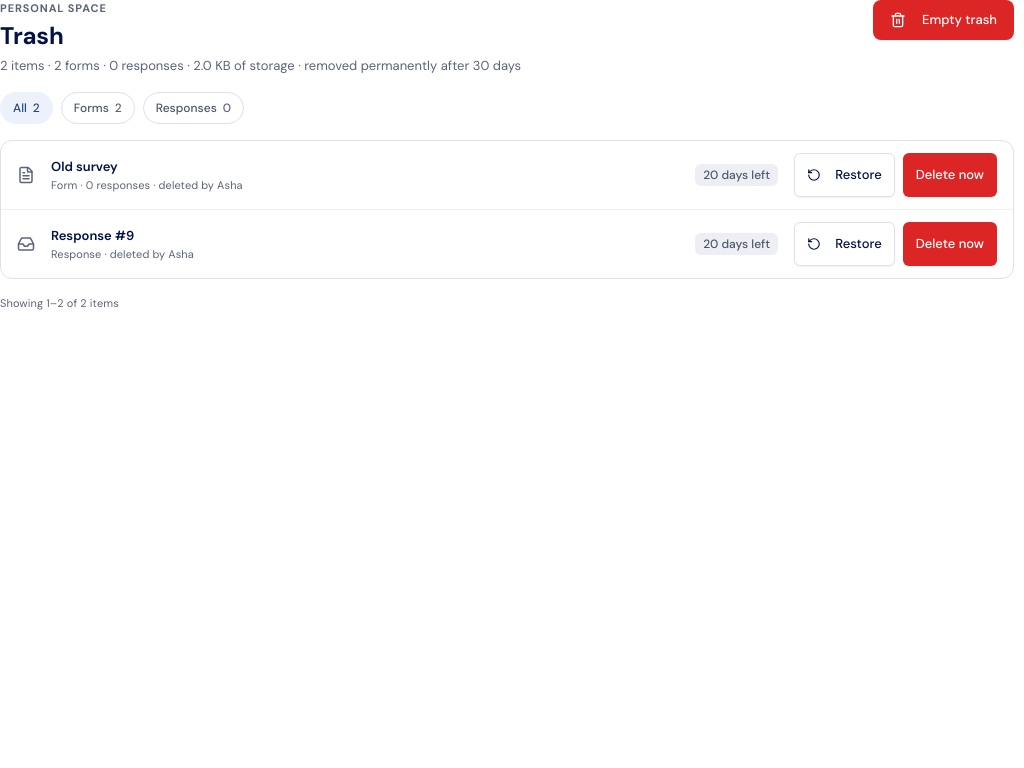
Test case: TrashView › says the count is unavailable when a form has no responseCount, and uses response wording for responses
This screenshot has width=1024, height=768.
Click the button "Delete now" in the row of "Old survey" at (950, 175), box [903,153,997,197]
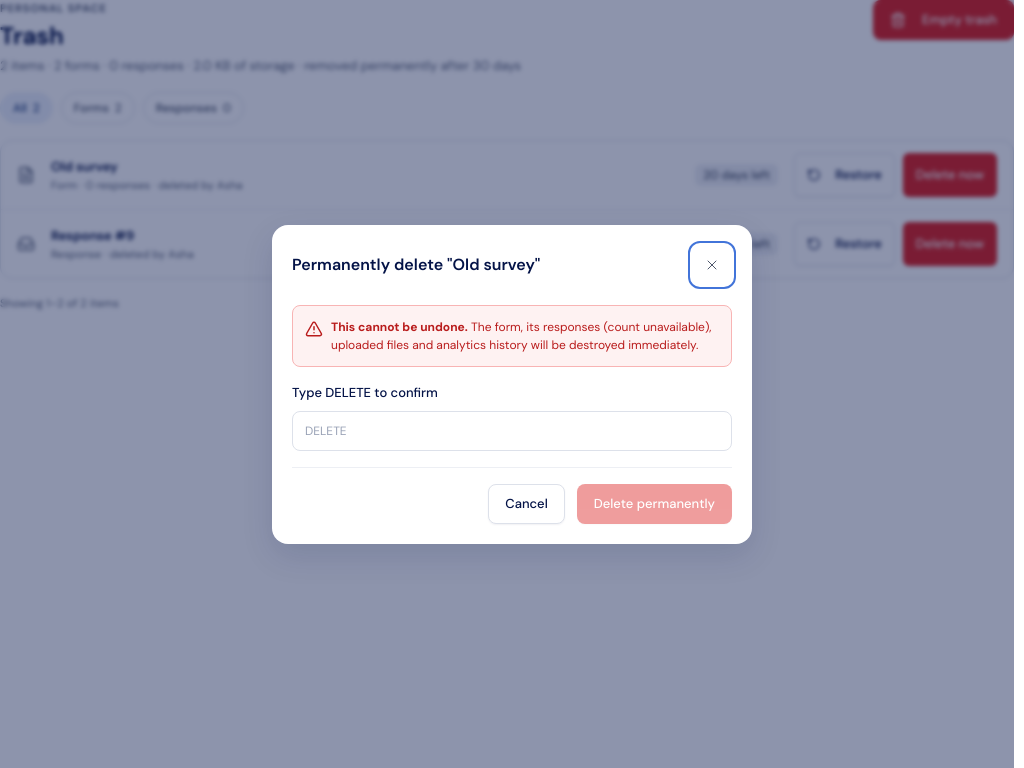
Result: the dialog shows "(count unavailable)" at [331,318,712,352]
Click the button "Cancel" at (527, 504), box [488,484,565,524]
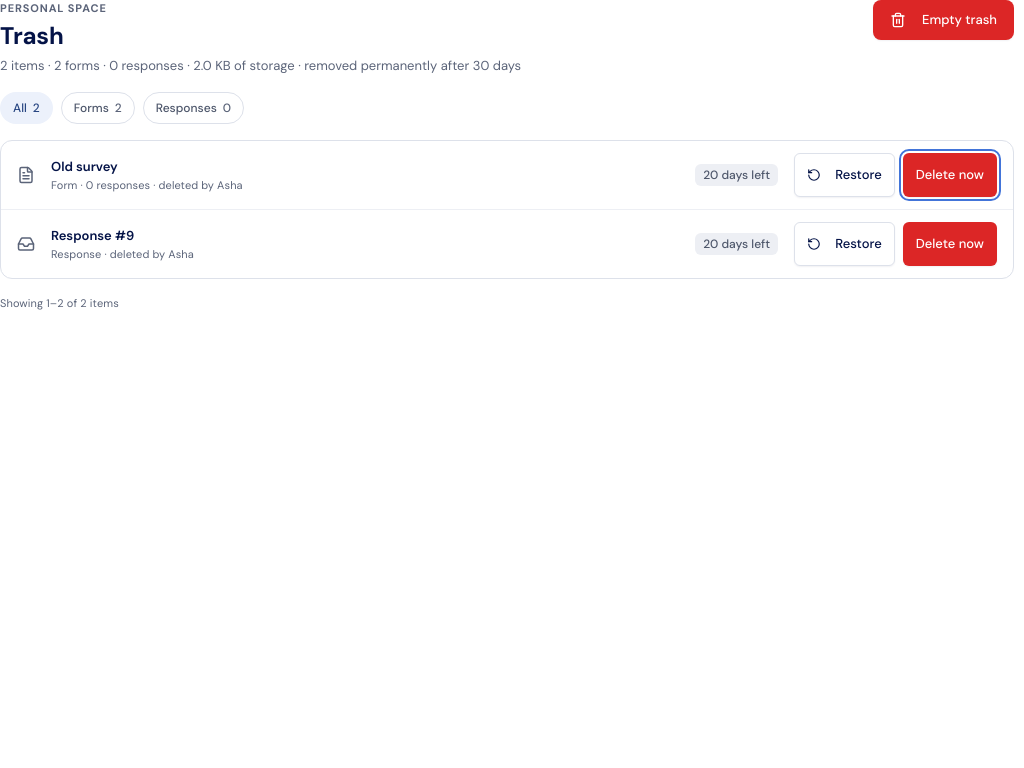
Click the button "Delete now" in the row of "Response #9" at (950, 244), box [903,222,997,266]
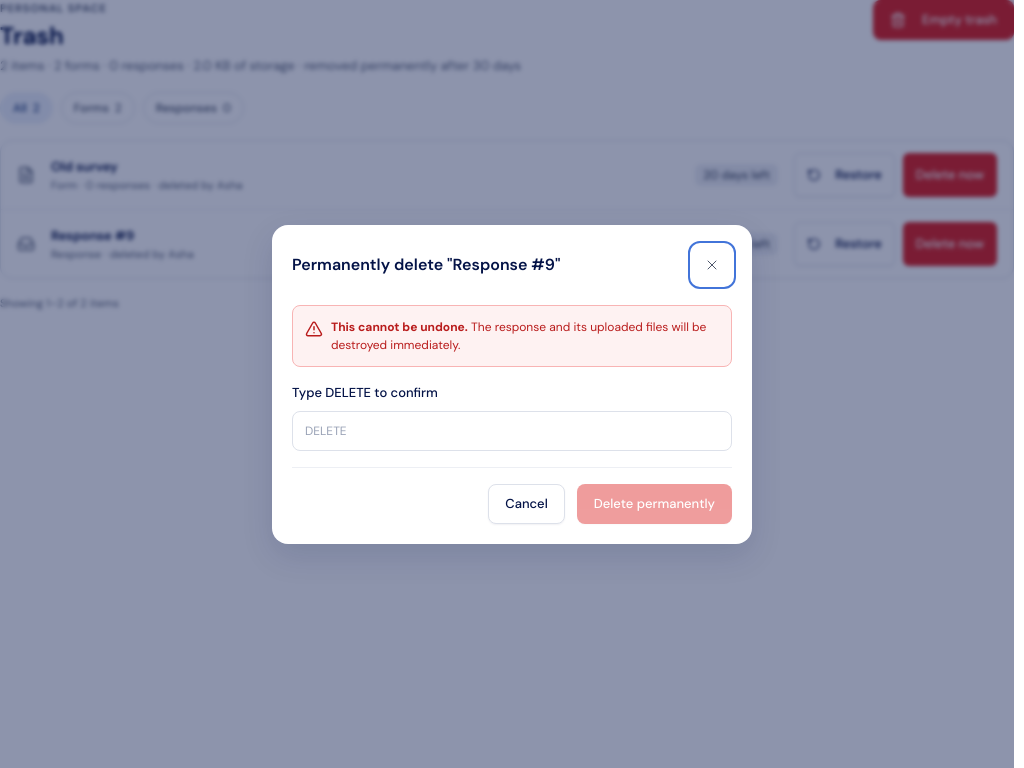
Result: the dialog shows "The response and its uploaded files" at [331,318,706,352]
